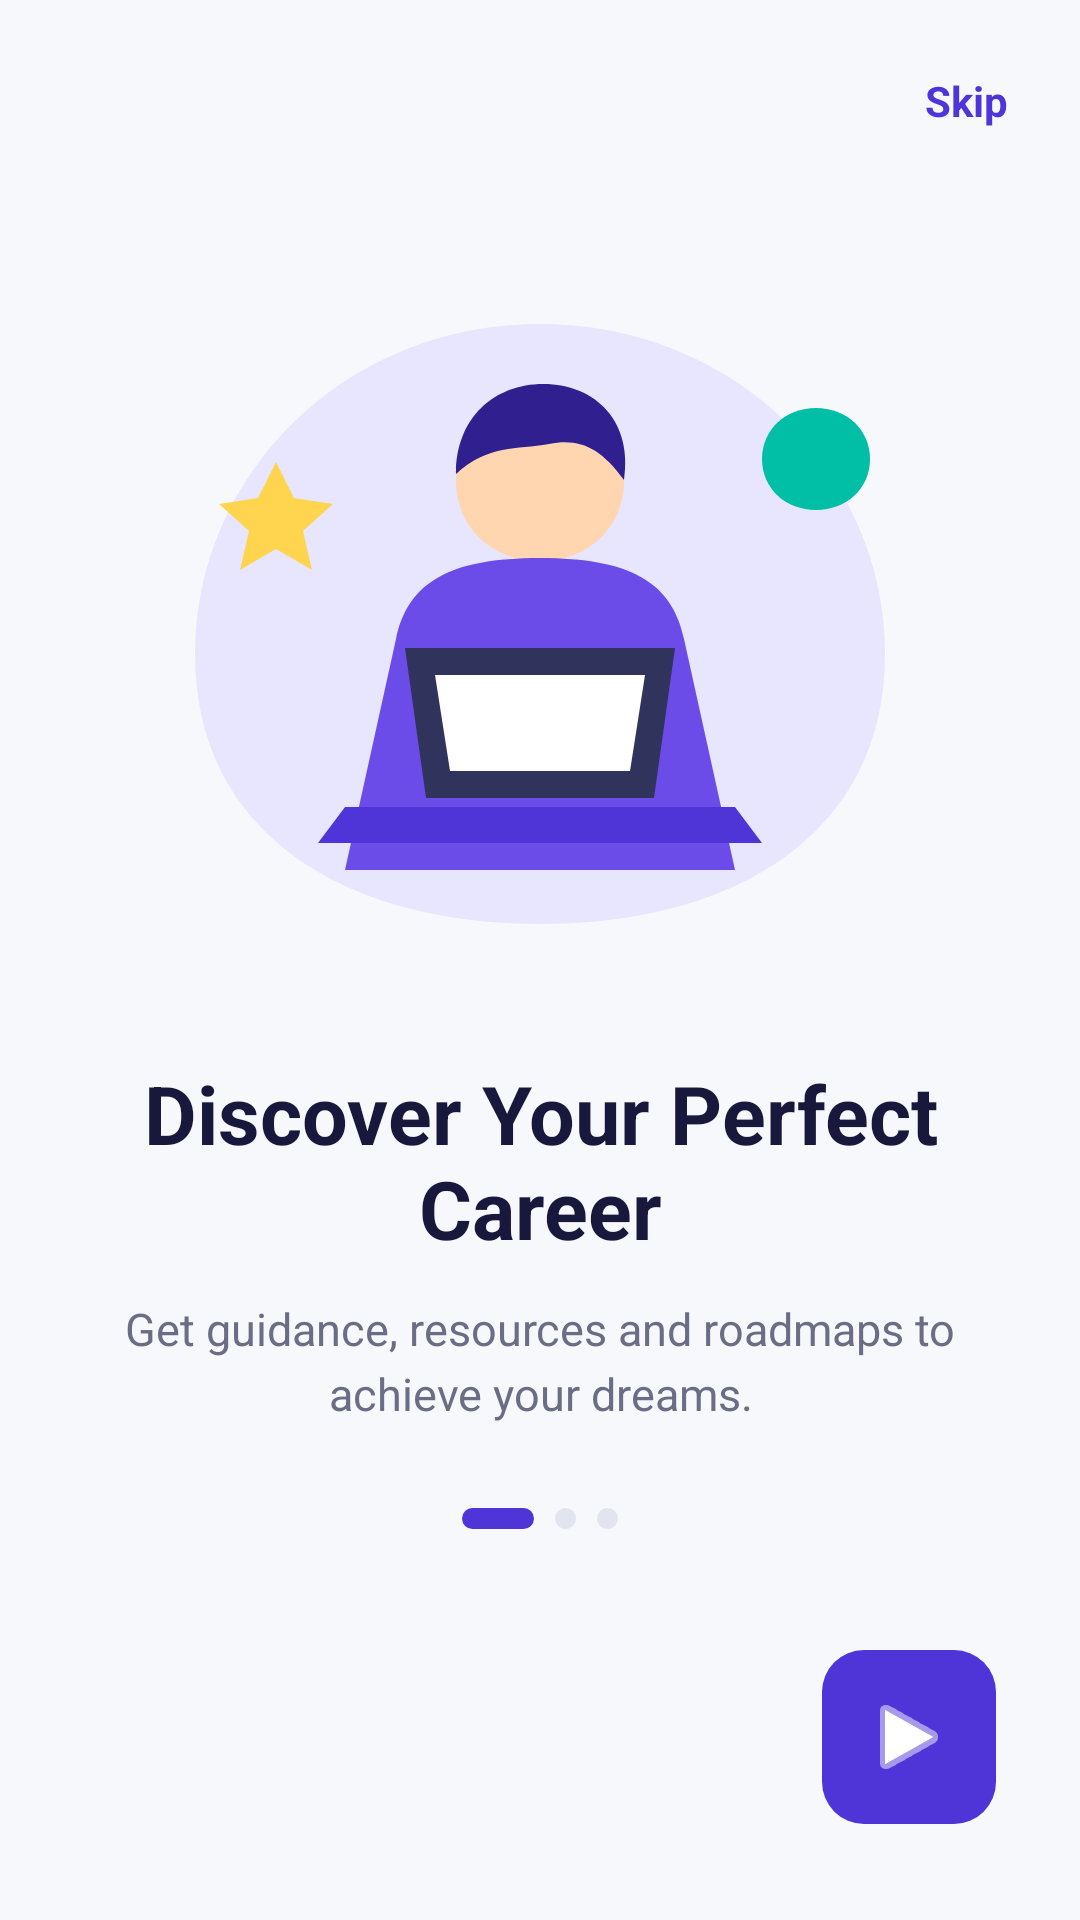

Screen size 1080px x 1920px. Icon name, then its center in pixels as (x=x, y=y):
Continue: (x=909, y=1737)
